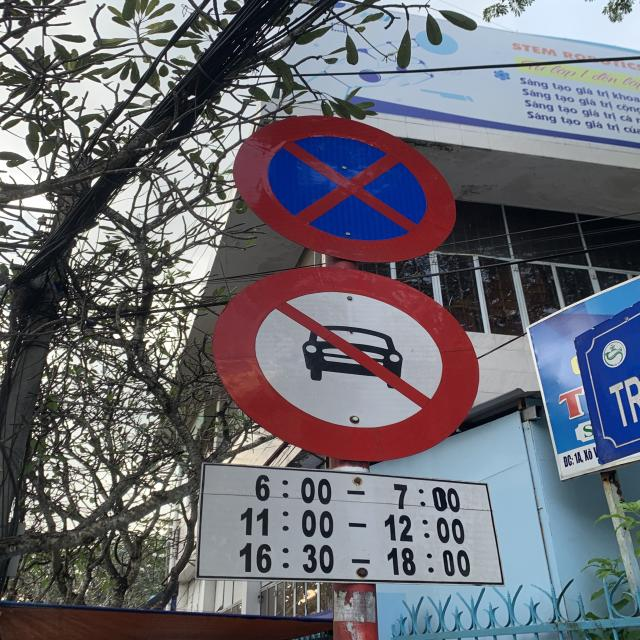Cam_Dung_Va_Dau_Xe: (234, 116, 456, 263)
Cam_O_To: (212, 267, 480, 458)
